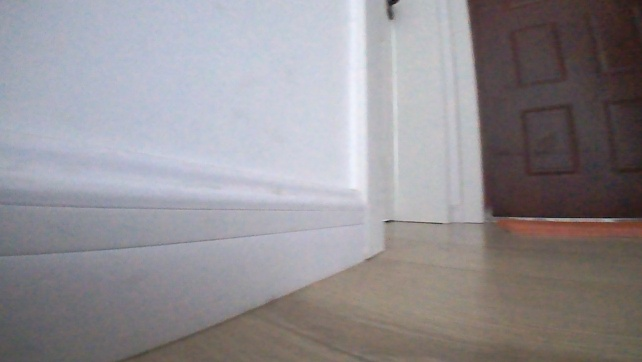blanket: (494, 214, 641, 241)
door_anno: (466, 0, 641, 221)
